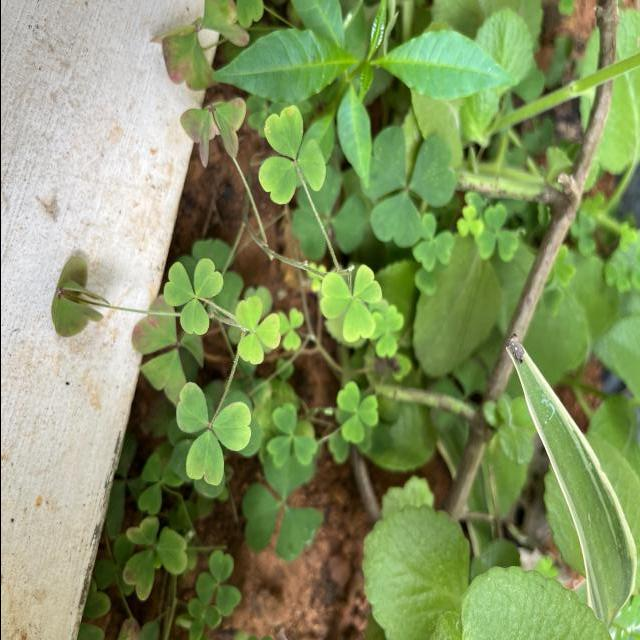Oxalis corniculata: (364, 124, 456, 248), (174, 381, 252, 487), (256, 105, 326, 211), (318, 263, 382, 344), (162, 258, 223, 336), (266, 401, 318, 468), (234, 296, 281, 366), (195, 549, 242, 617), (335, 380, 379, 446)
